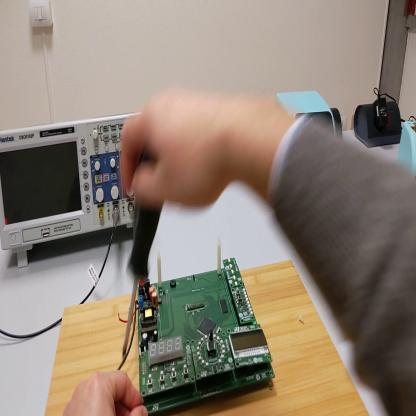hand: (120, 89, 234, 213), (63, 367, 149, 415)
low voltage board: (118, 236, 276, 415)
oscilloscope: (2, 116, 155, 270)
screwdriver-: (125, 150, 165, 377)
socket: (355, 102, 403, 148), (331, 109, 342, 139)
welder base: (402, 121, 415, 172)
welder station: (277, 93, 337, 143)
working area: (48, 260, 369, 415)
